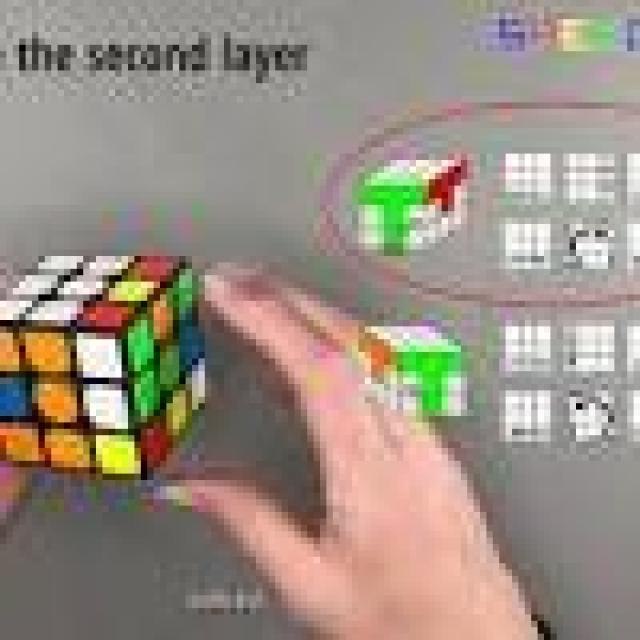Rub: (0, 240, 206, 486)
